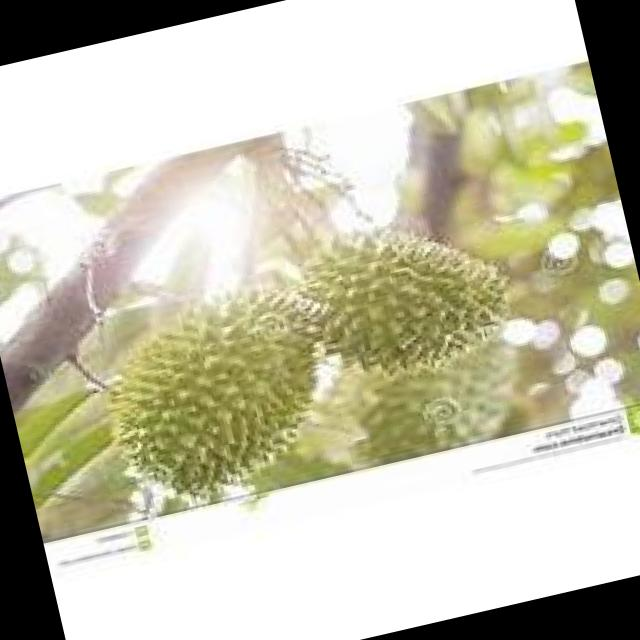fruit: (66, 242, 370, 526), (283, 177, 538, 411)
